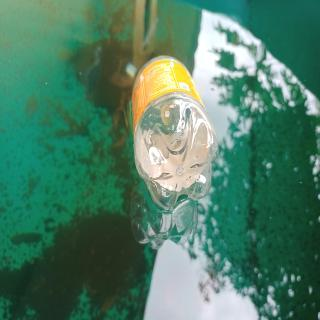bottle: (130, 52, 220, 214)
